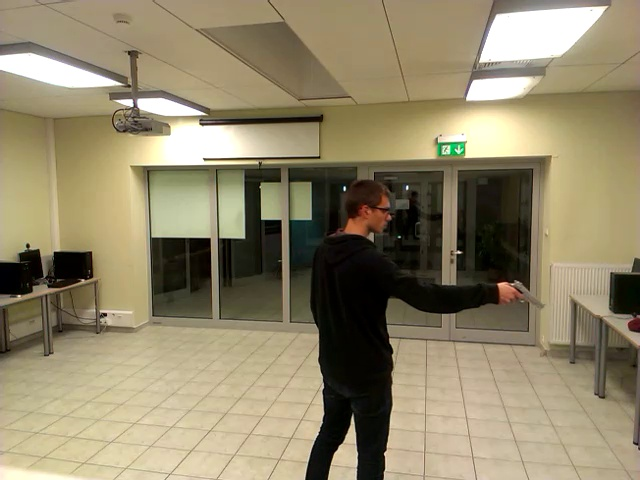gun: (502, 265, 548, 328)
